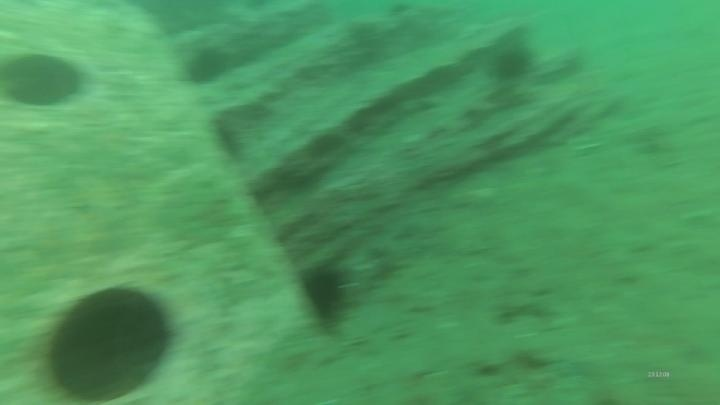echinus: (295, 259, 356, 331), (180, 43, 232, 89), (489, 43, 534, 85)
